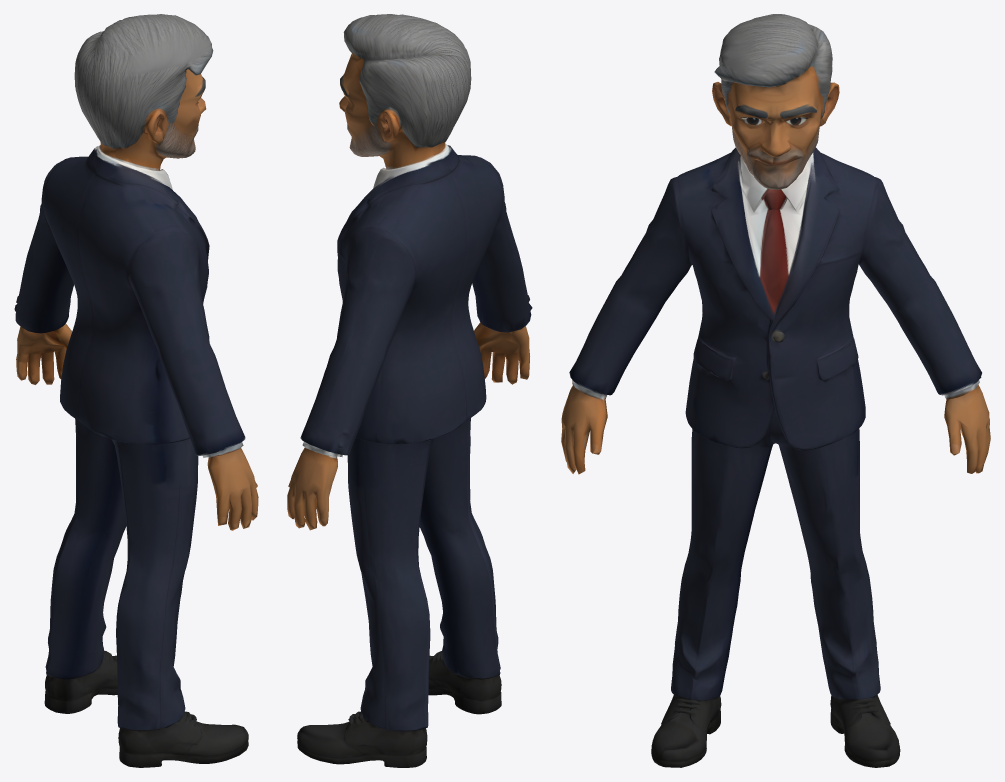
The model's file is gen.glb.
3 views of the same model, side by side, from view 1: azimuth 30°, elevation 25°; view 2: azimuth 150°, elevation 25°; view 3: azimuth 270°, elevation 25° (orthographic). The views are drawn at different scales.
Parts seen in each view (by area): view 1: tripo_node_f5c3cb4d-5004-448d-895d-eac73fae2a52; view 2: tripo_node_f5c3cb4d-5004-448d-895d-eac73fae2a52; view 3: tripo_node_f5c3cb4d-5004-448d-895d-eac73fae2a52.
Boxes of the visible parts, x1,y1,x2,y2 form: tripo_node_f5c3cb4d-5004-448d-895d-eac73fae2a52: (14, 14, 258, 767); tripo_node_f5c3cb4d-5004-448d-895d-eac73fae2a52: (287, 14, 532, 767); tripo_node_f5c3cb4d-5004-448d-895d-eac73fae2a52: (561, 14, 990, 767).
Size of the model in its own units: 0.1843 by 0.9795 by 0.528.
Materials: 1 (1 with a texture image).
